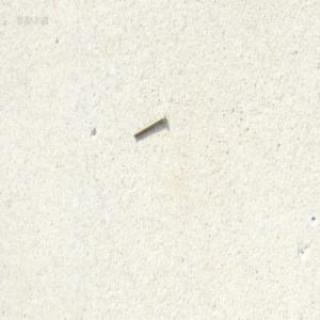Bolttrack_idkeyframe: (132, 110, 164, 138)
